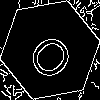O: (25, 25, 83, 84)
